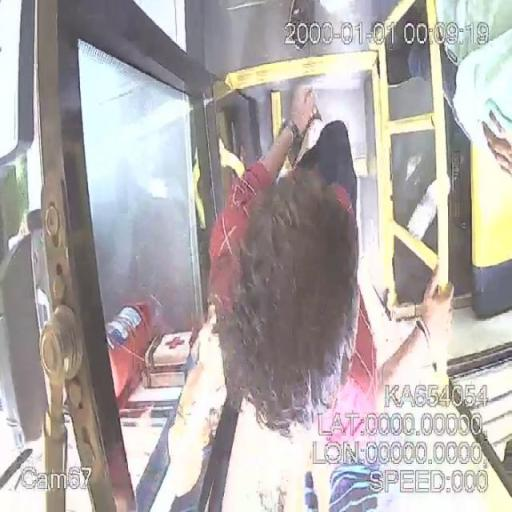persona: (208, 82, 458, 448)
